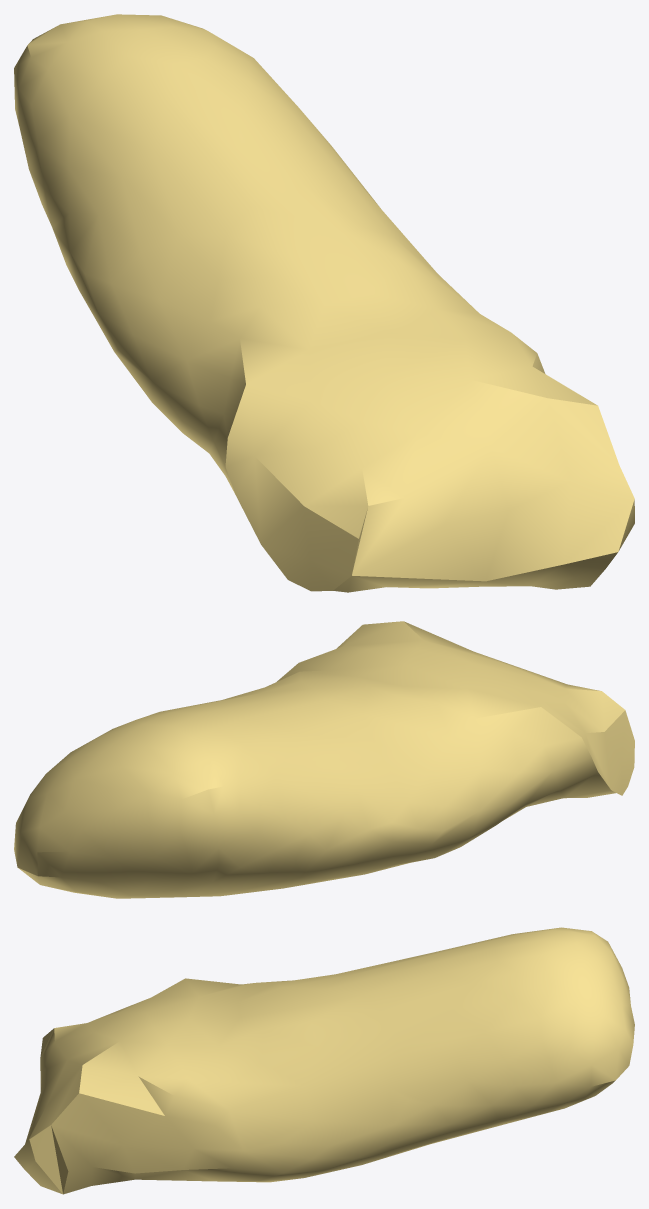
The model's file is fma323280-l_mm2997.glb.
3 renders of one model, top to bottom at view 1: azimuth 30°, elevation 25°; view 2: azimuth 150°, elevation 25°; view 3: azimuth 270°, elevation 25°, orthographic. The views are drawn at different scales.
Parts seen in each view (by area): view 1: FMA323280-L_MM2997; view 2: FMA323280-L_MM2997; view 3: FMA323280-L_MM2997.
Boxes of the visible parts, <box> form: FMA323280-L_MM2997: <box>14,14,634,592</box>; FMA323280-L_MM2997: <box>14,621,634,898</box>; FMA323280-L_MM2997: <box>14,927,634,1194</box>.
Bounding box in the file's own units: 0.00277 × 0.00241 × 0.00611.
